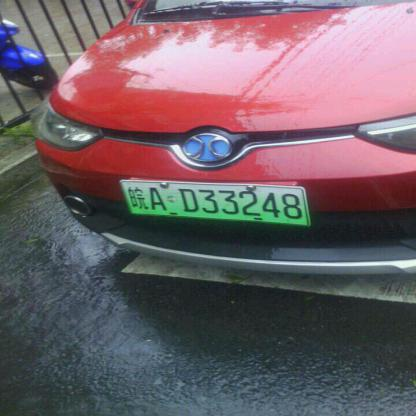lp: (122, 181, 310, 225)
